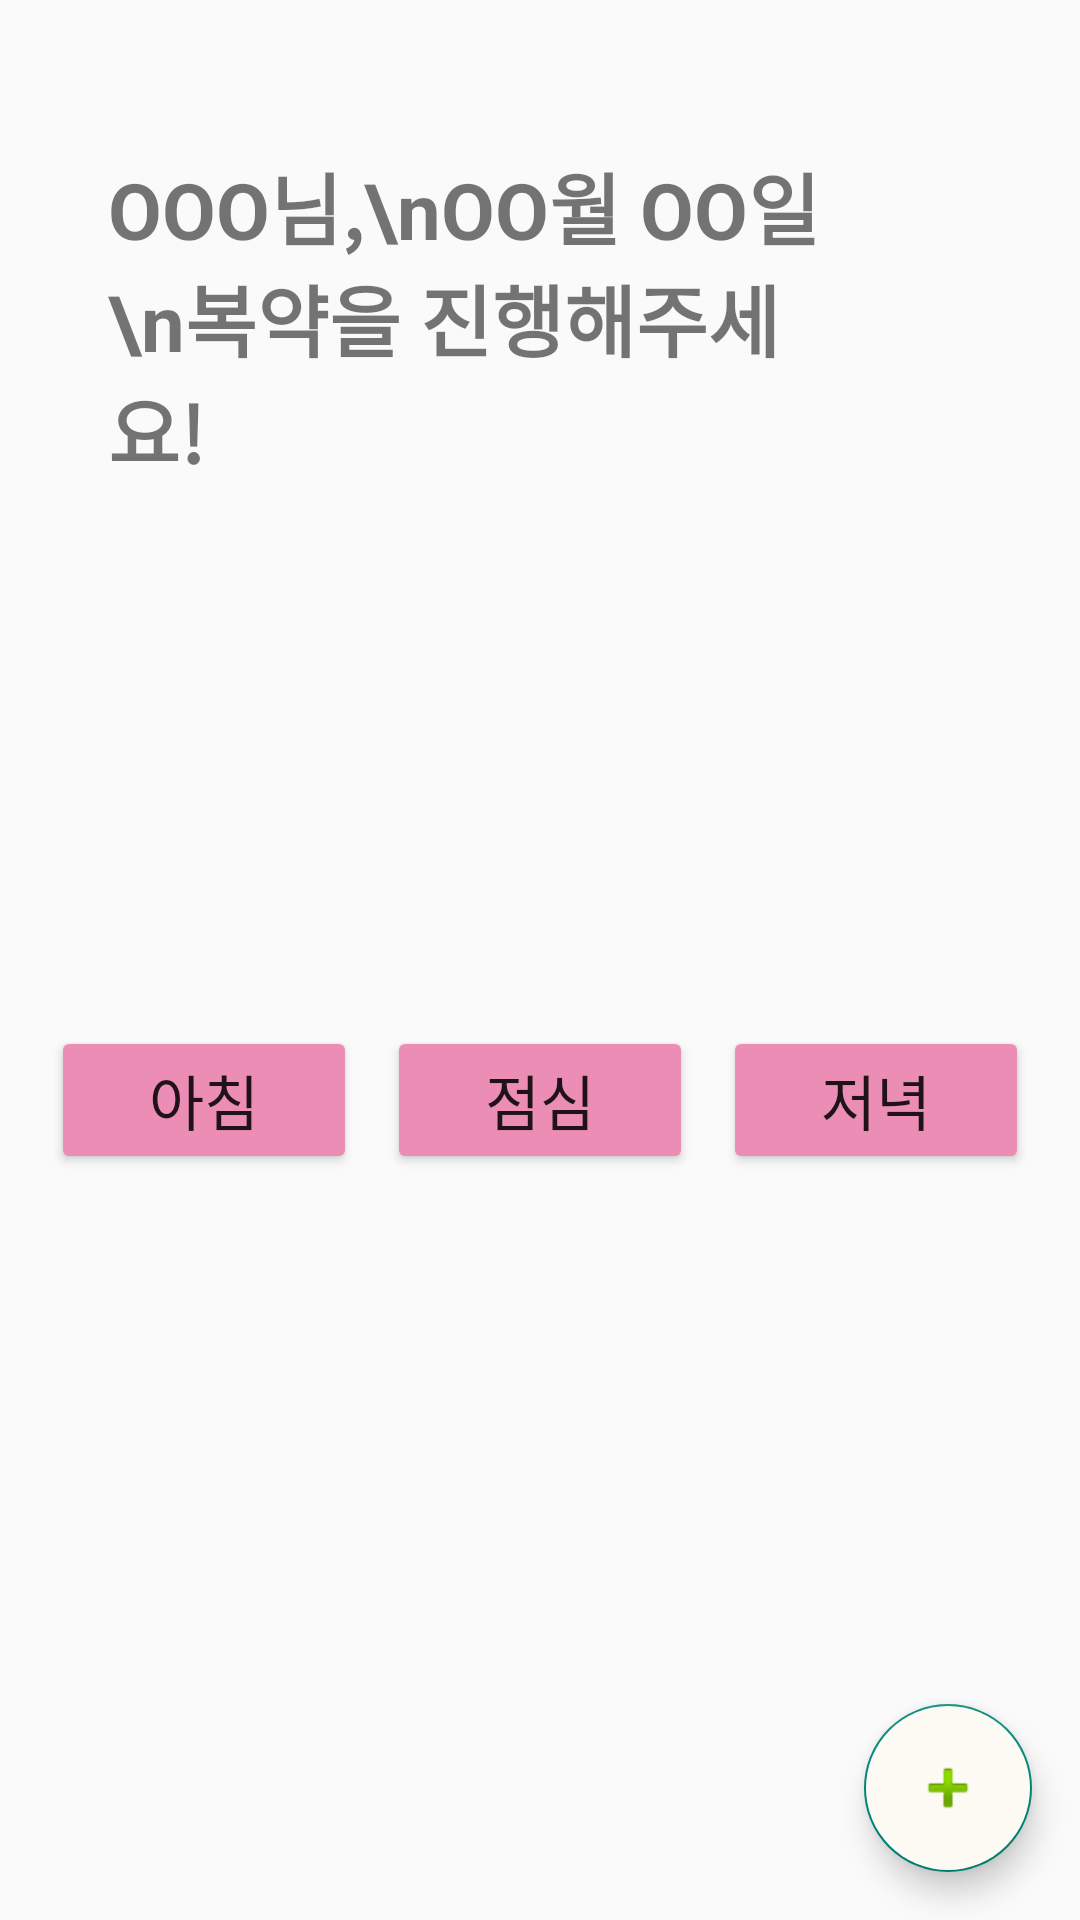

Named icons in this screenshot (1080*1920) and their centers, point (x, y):
추가히기: point (948, 1788)
